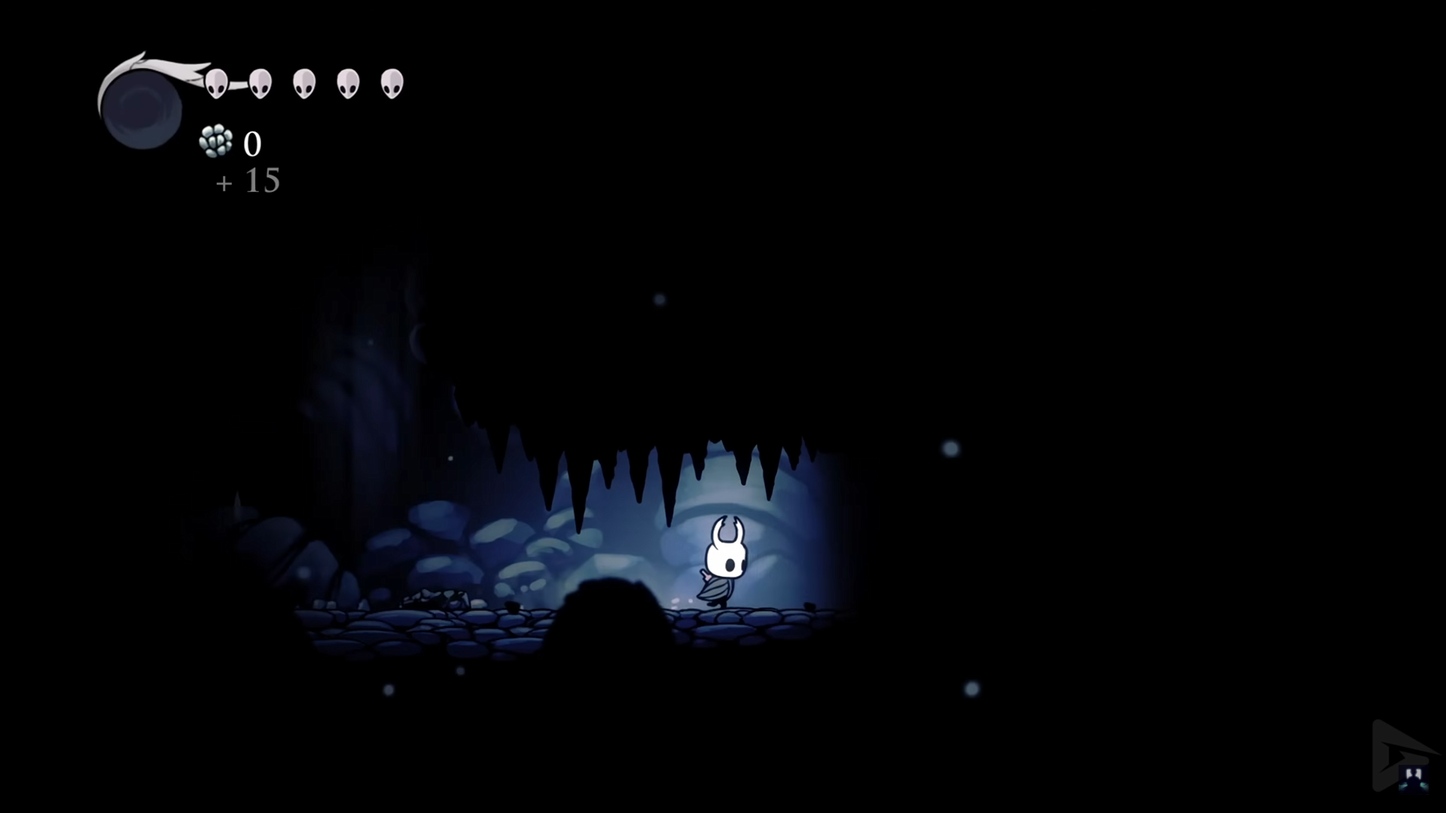HK: (695, 517, 748, 612)
